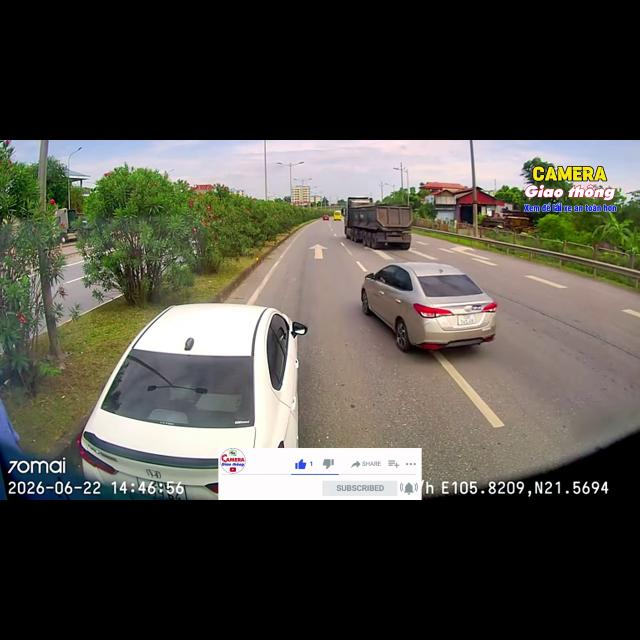bus: (333, 210, 342, 220)
car: (77, 303, 307, 499), (361, 262, 497, 351), (323, 215, 329, 220)
truck: (343, 197, 412, 249), (55, 208, 77, 243)
